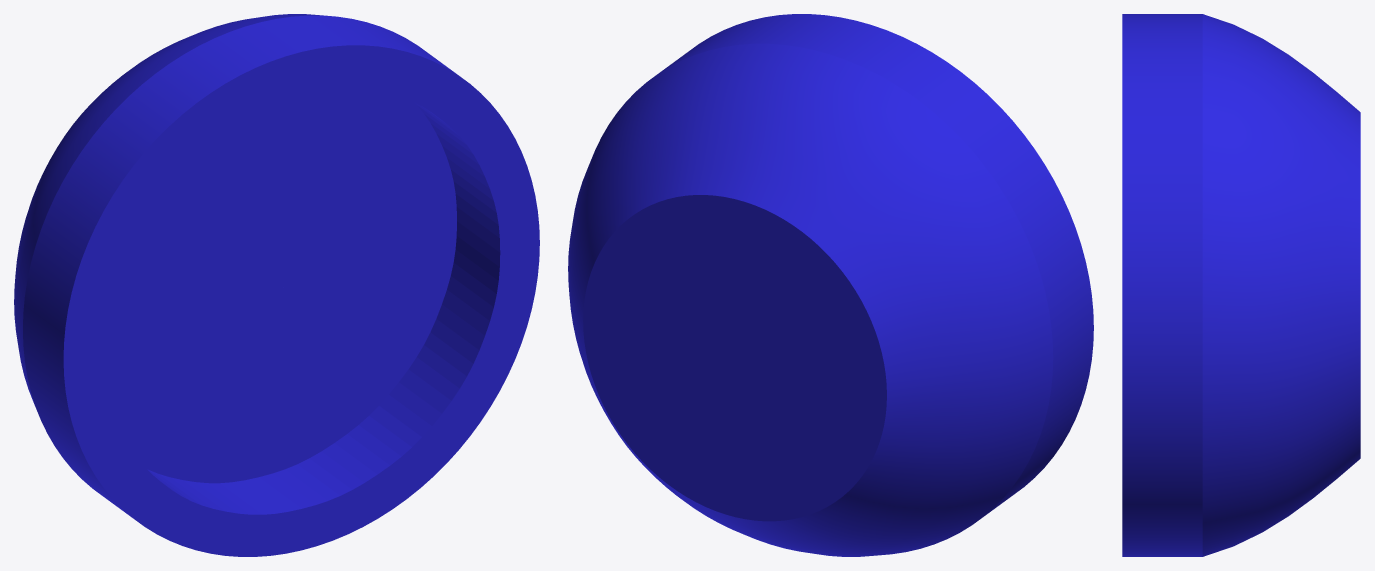
Rendered from NitrogenLokket.FBX.
3 views of the same model, side by side, from view 1: azimuth 30°, elevation 25°; view 2: azimuth 150°, elevation 25°; view 3: azimuth 270°, elevation 25° (orthographic).
Parts seen in each view (by area): view 1: lokk; view 2: lokk; view 3: lokk.
Part boxes in pixels (x1,y1,x2,y2): lokk: (14,14,539,556); lokk: (568,14,1093,556); lokk: (1122,14,1360,556).
Size of the model in its own units: 17.23 by 17.23 by 7.56.
1 material, 1 textured.
